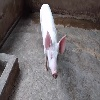heo: (39, 29, 69, 79)
